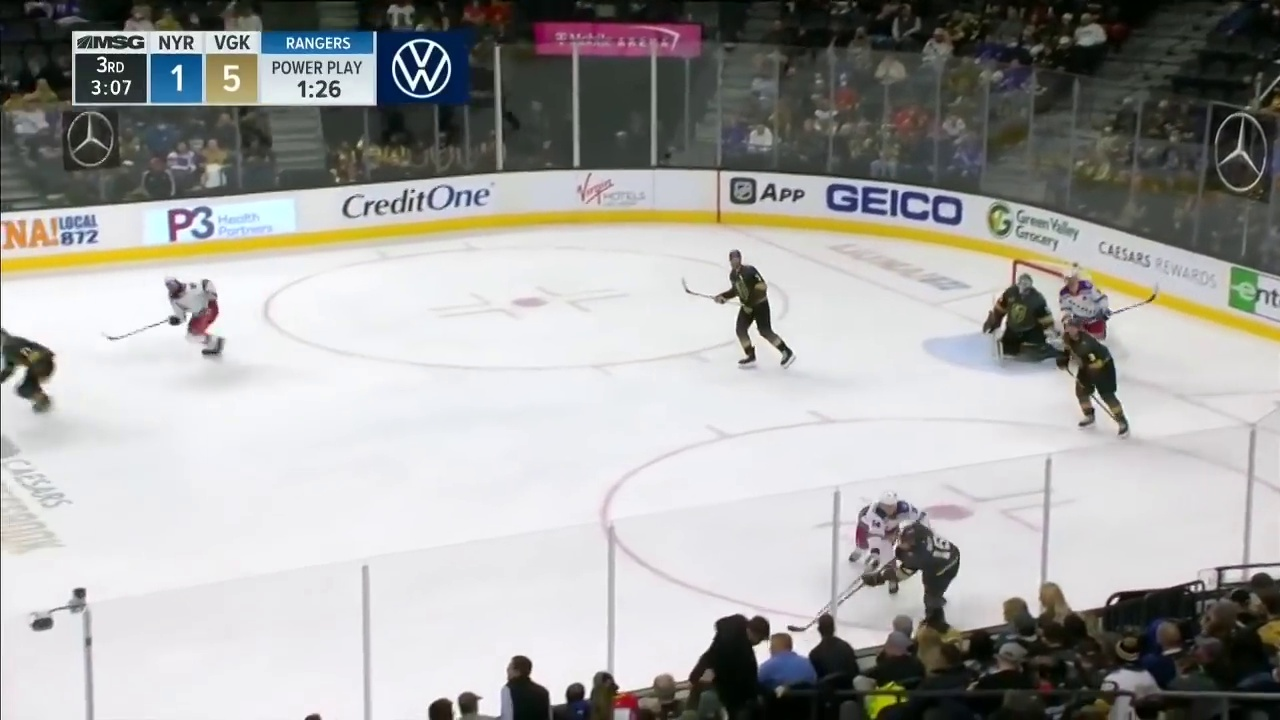goalie: (983, 273, 1061, 363)
hockeyplayer: (862, 523, 961, 625), (715, 250, 796, 369), (1056, 318, 1128, 439), (849, 490, 929, 596), (164, 275, 226, 359), (1, 328, 55, 414), (1059, 269, 1112, 346)
